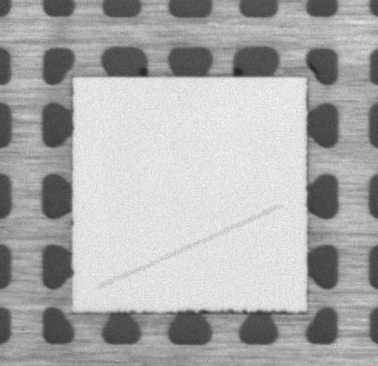DIE_CRACK: (102, 199, 290, 278)
